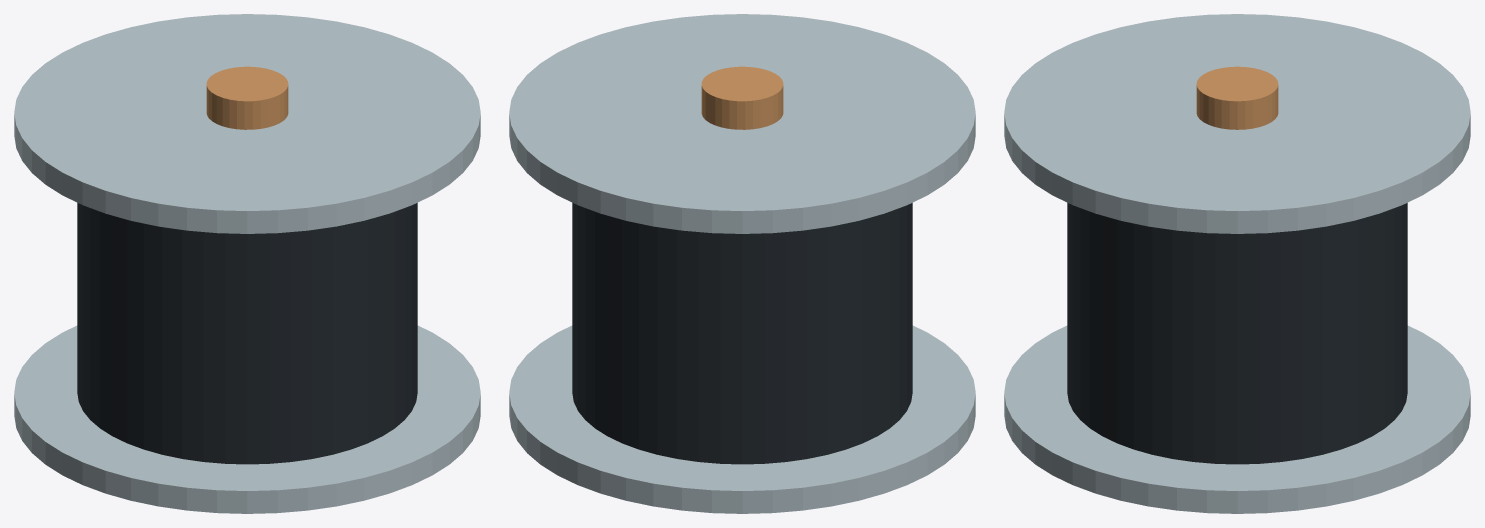
Rendered from data-centre-infiltration-kit-data-centre-infiltration--fd743334__29255.glb.
The picture shows the model from 3 angles, left to right: view 1: azimuth 30°, elevation 25°; view 2: azimuth 150°, elevation 25°; view 3: azimuth 270°, elevation 25°; orthographic projection.
Parts seen in each view (by area): view 1: data-centre-infiltration-kit-cable-drum; view 2: data-centre-infiltration-kit-cable-drum; view 3: data-centre-infiltration-kit-cable-drum.
Boxes of the visible parts, <box> form: data-centre-infiltration-kit-cable-drum: <box>14,14,480,513</box>; data-centre-infiltration-kit-cable-drum: <box>509,14,975,513</box>; data-centre-infiltration-kit-cable-drum: <box>1004,14,1470,513</box>.
Bounding box in the file's own units: 0.74 × 0.58 × 0.74.
